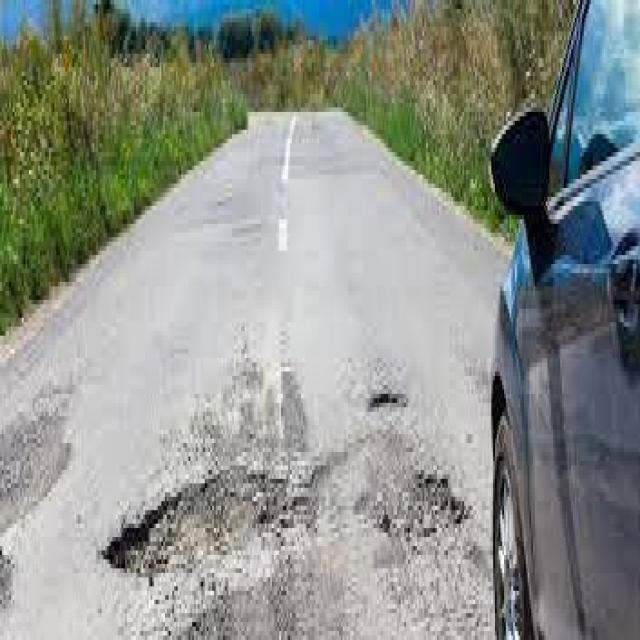pothole: (96, 331, 426, 640)
